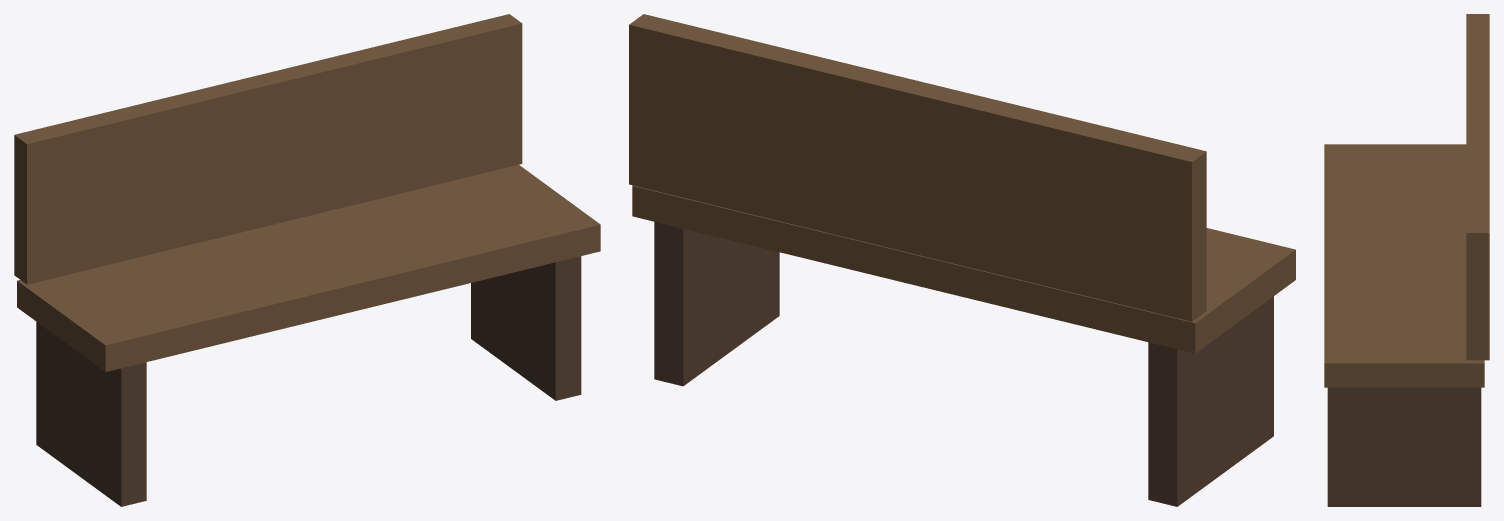
The model's file is furniture-bench.glb.
The picture shows the model from 3 angles, left to right: view 1: azimuth 30°, elevation 25°; view 2: azimuth 150°, elevation 25°; view 3: azimuth 270°, elevation 25°; orthographic projection. The views are drawn at different scales.
Bounding box in the file's own units: 1.55 × 0.93 × 0.495.
